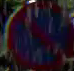No Stopping: (4, 0, 67, 70)
